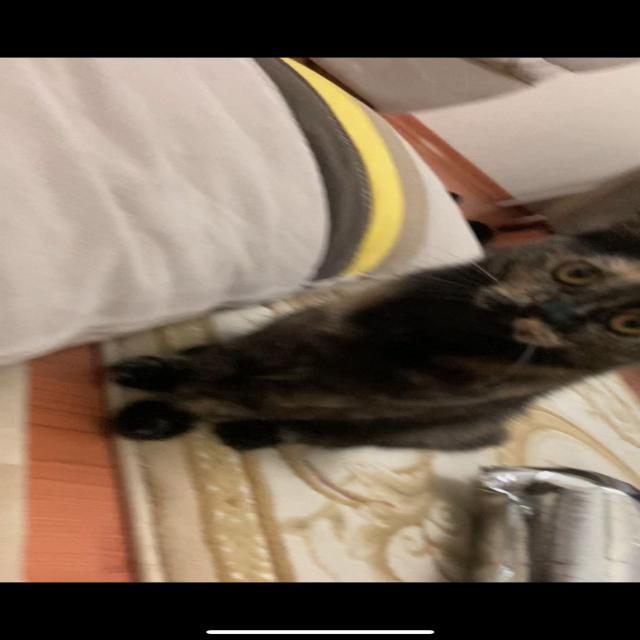authorized: (99, 218, 638, 452)
